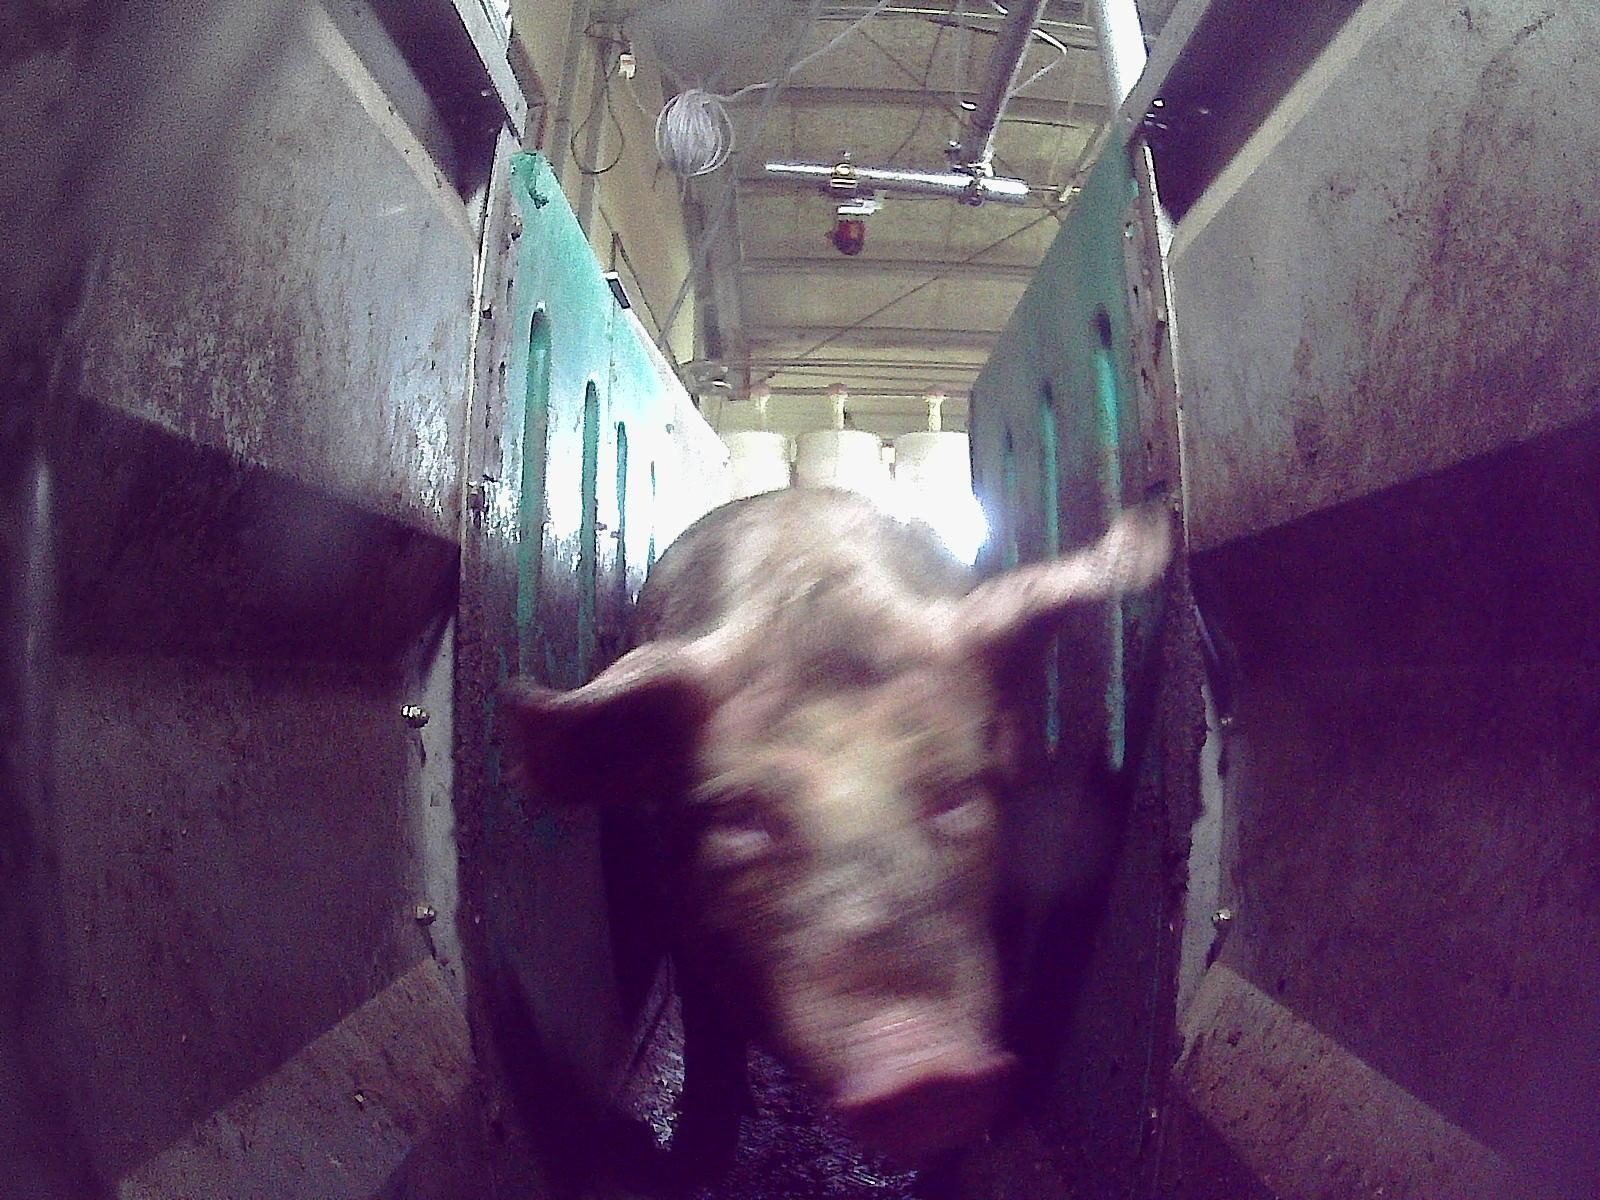Face: (678, 640, 1023, 1160)
